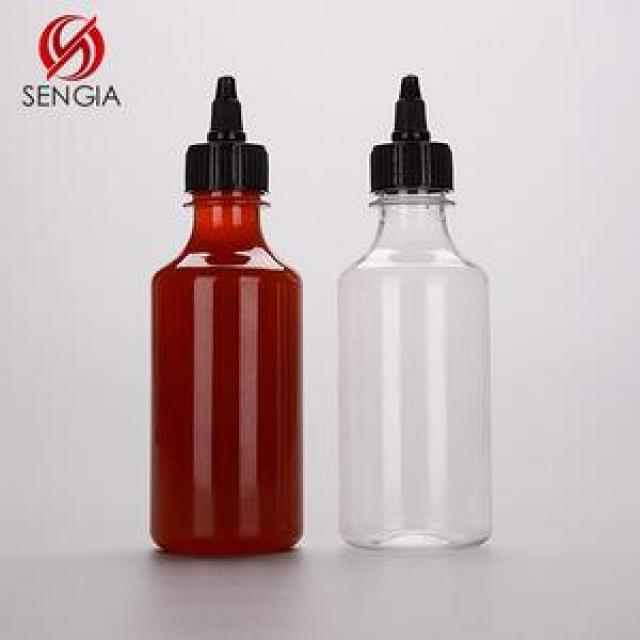plastic_bottle: (143, 81, 307, 544), (357, 74, 477, 547)
